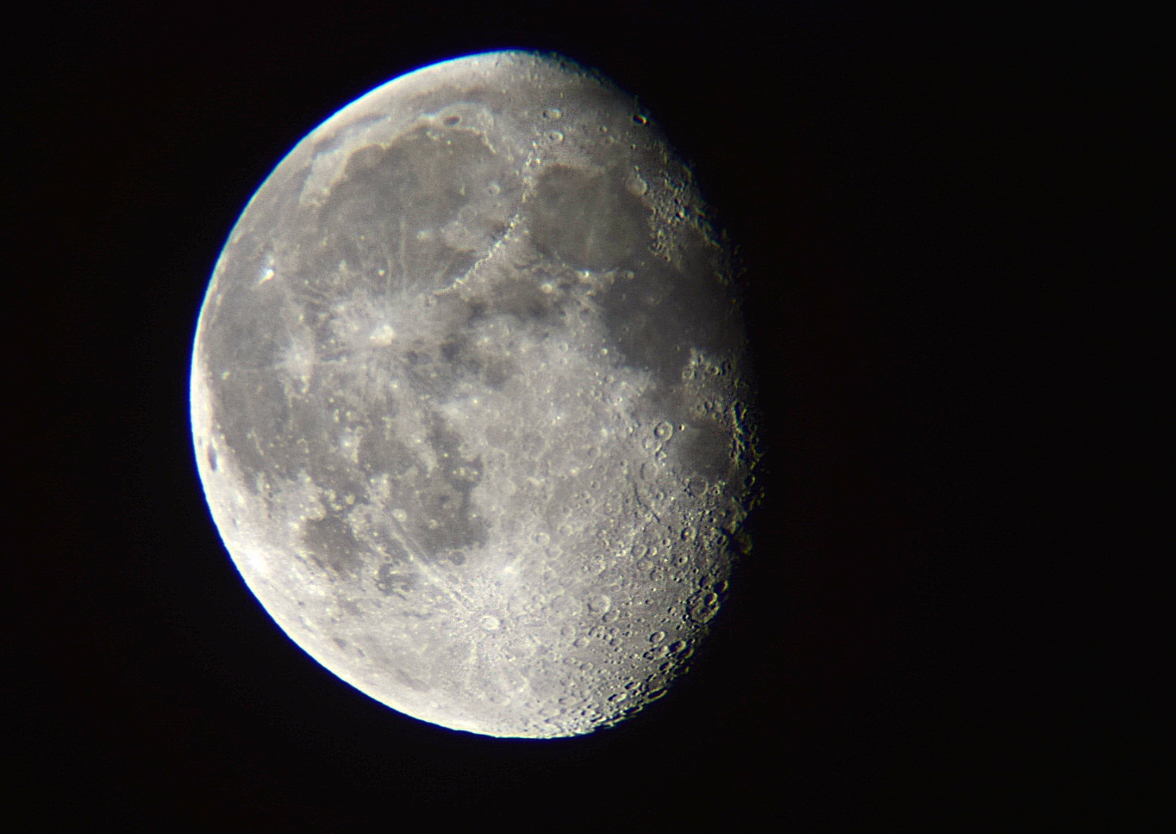crater: (412, 566, 555, 680), (344, 288, 433, 383), (432, 106, 475, 138), (619, 168, 654, 204), (621, 106, 659, 138), (248, 261, 289, 289), (528, 276, 565, 302), (650, 415, 678, 447), (535, 100, 569, 126), (584, 589, 613, 613), (541, 127, 572, 148), (619, 263, 641, 289)
